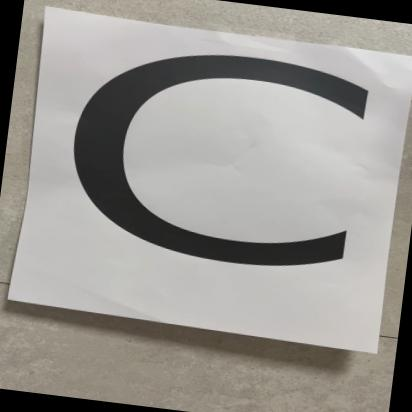seat: (0, 0, 412, 351)
